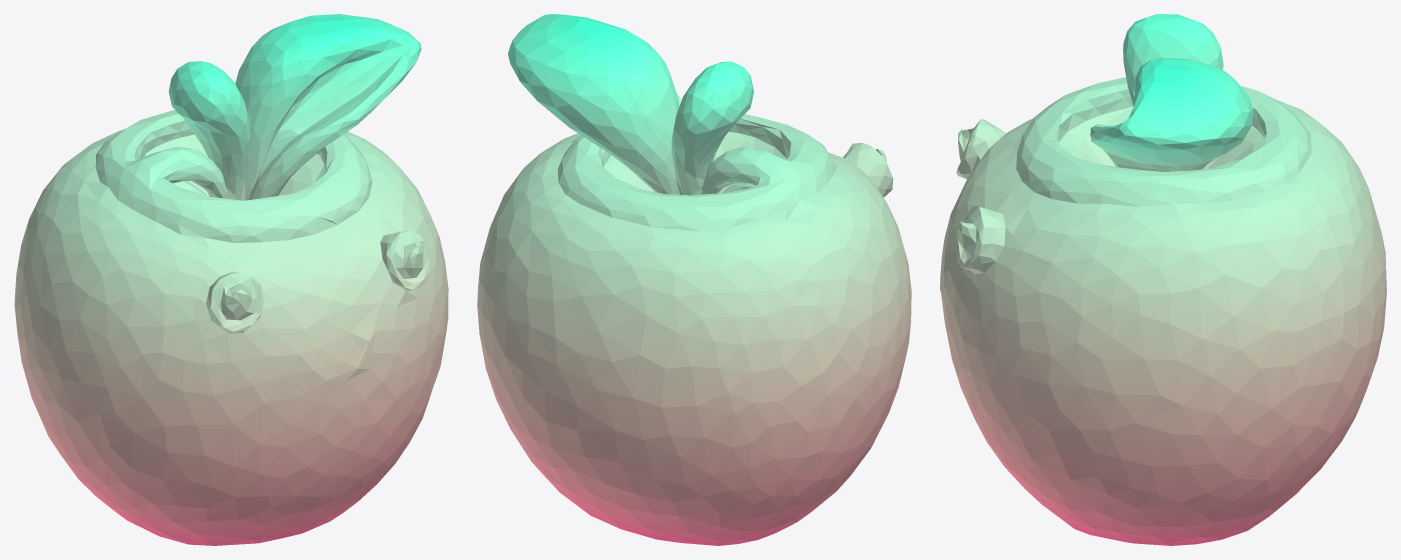
Rendered from 66_cyb_laser_gradient_fish_scales_2828_2026_10_03_b51237.glb.
3 renders of one model, left to right at view 1: azimuth 30°, elevation 25°; view 2: azimuth 150°, elevation 25°; view 3: azimuth 270°, elevation 25°, orthographic. The views are drawn at different scales.
Parts seen in each view (by area): view 1: geometry_0; view 2: geometry_0; view 3: geometry_0.
Boxes of the visible parts, box(x1,y1,x2,y2) form: geometry_0: box(14, 14, 448, 545); geometry_0: box(477, 14, 911, 545); geometry_0: box(940, 14, 1386, 545).
Bounding box in the file's own units: 0.867 × 1 × 0.8455.
